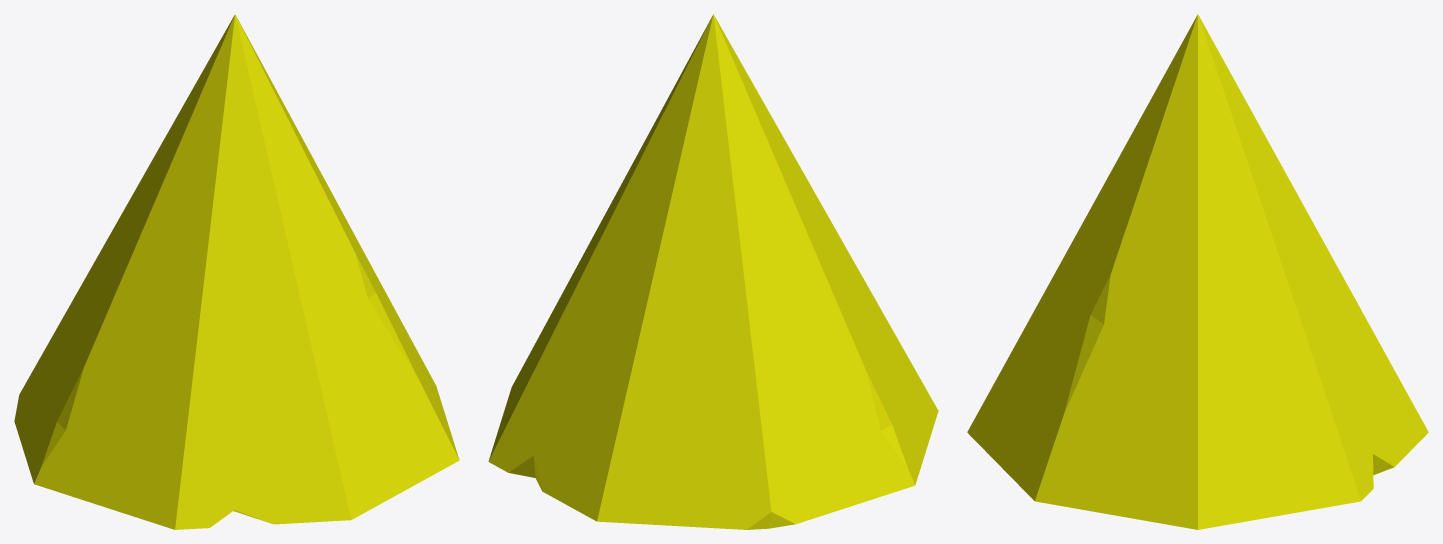
The model's file is SM_PolygonPrototype_Primitive_Cone_01P.glb.
3 renders of one model, left to right at view 1: azimuth 30°, elevation 25°; view 2: azimuth 150°, elevation 25°; view 3: azimuth 270°, elevation 25°, orthographic.
Visible parts, largest first — view 1: SM_PolygonPrototype_Primitive_Cone_01P; view 2: SM_PolygonPrototype_Primitive_Cone_01P; view 3: SM_PolygonPrototype_Primitive_Cone_01P.
Part boxes in pixels (left/top/right/bottom): SM_PolygonPrototype_Primitive_Cone_01P: left=14, top=14, right=459, bottom=529; SM_PolygonPrototype_Primitive_Cone_01P: left=488, top=14, right=938, bottom=529; SM_PolygonPrototype_Primitive_Cone_01P: left=967, top=14, right=1428, bottom=529.
Size of the model in its own units: 1 by 1 by 1.
1 material, 1 textured.
